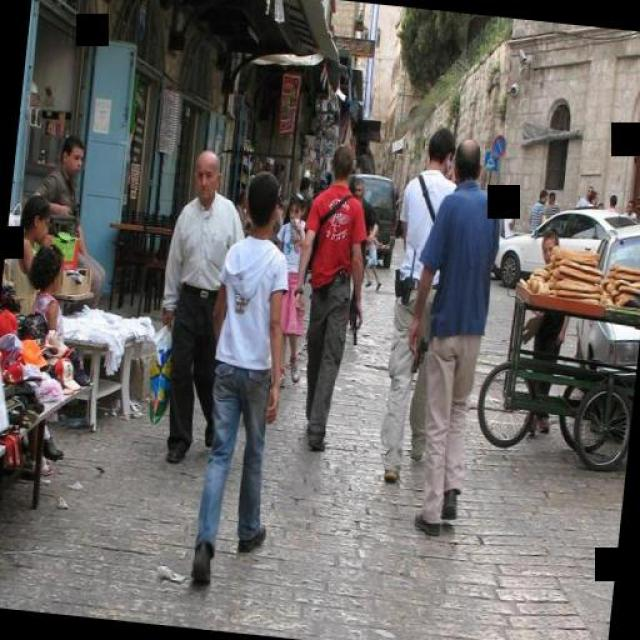gun: (344, 307, 364, 348)
